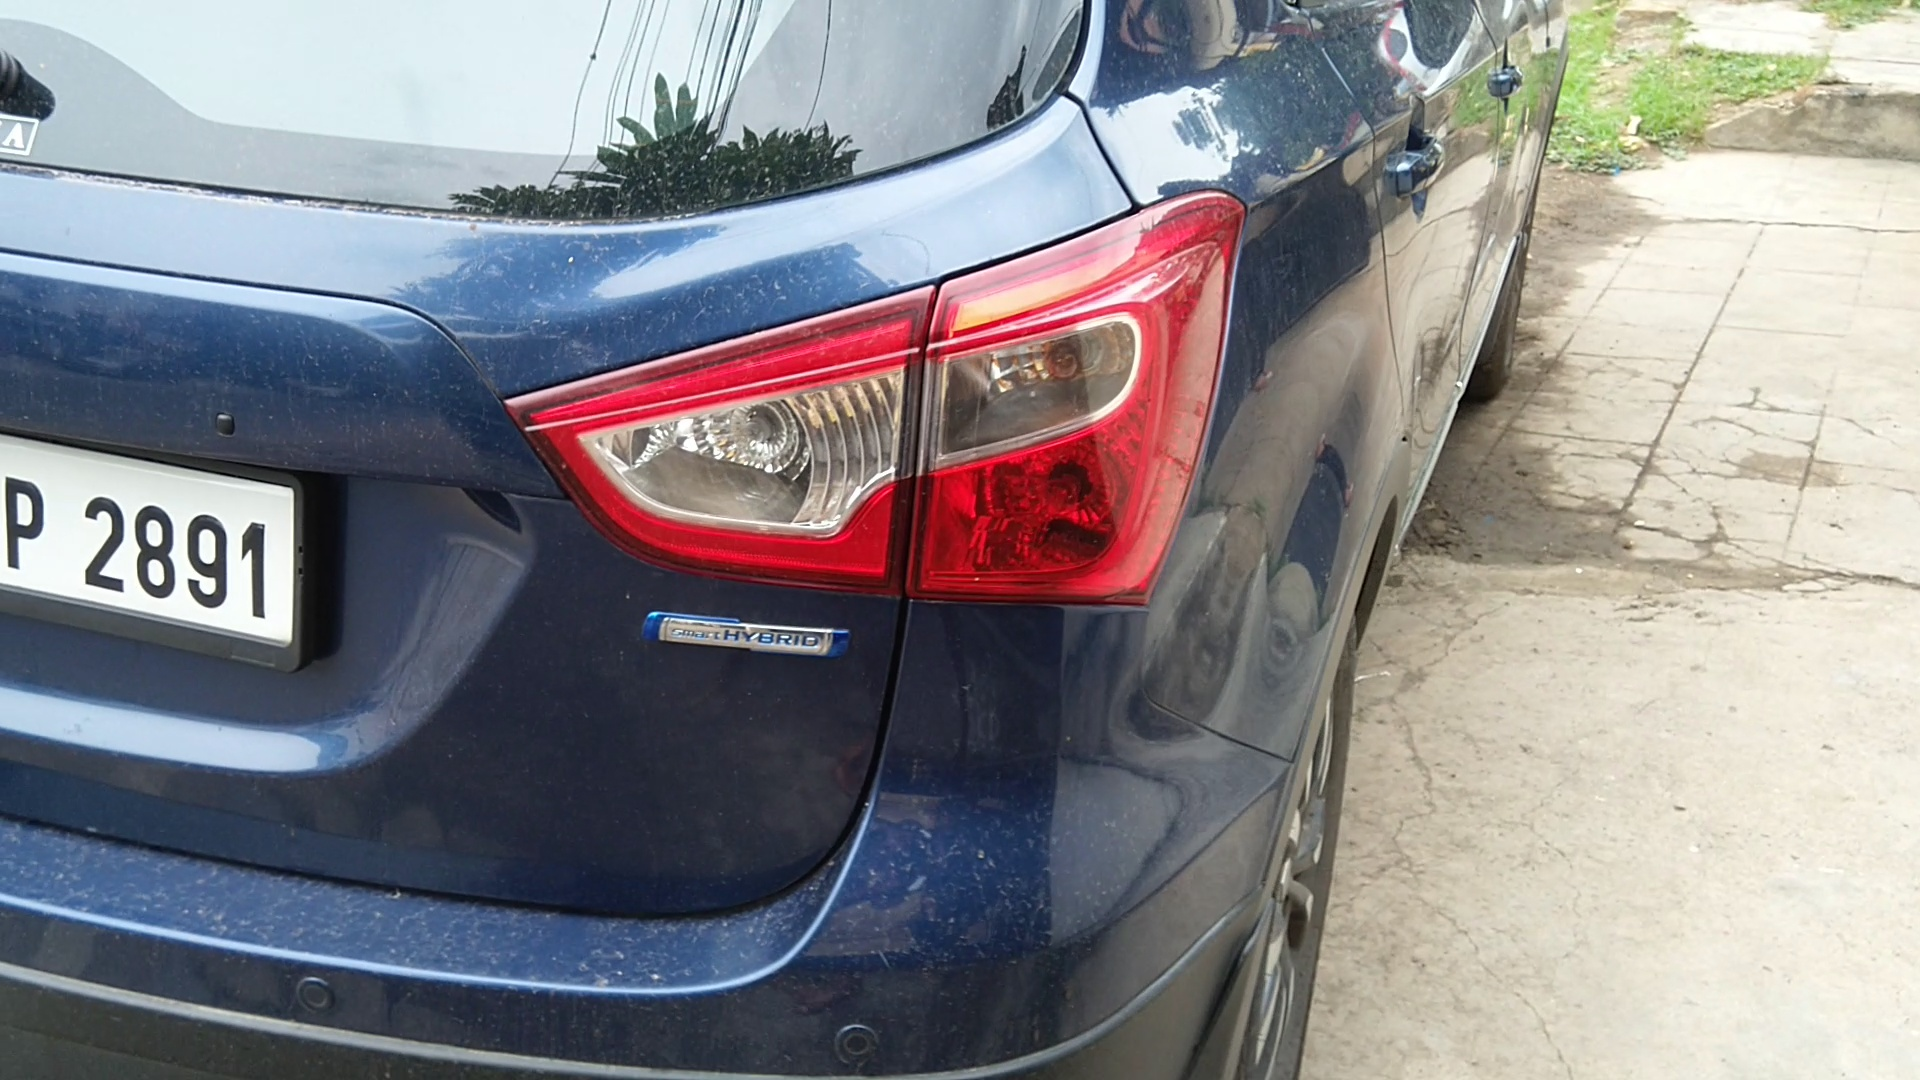shvs: (618, 603, 864, 673)
